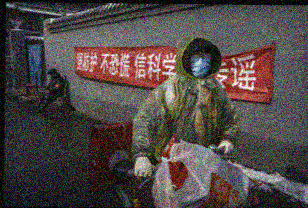with_mask: (188, 49, 212, 79)
